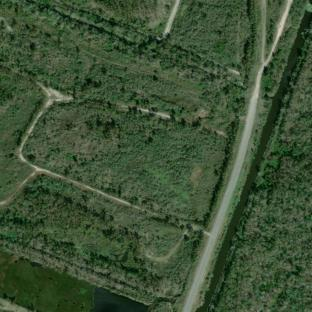Floresta: (207, 23, 312, 312), (0, 0, 243, 108), (180, 0, 258, 296), (0, 185, 169, 288), (0, 0, 0, 0)
